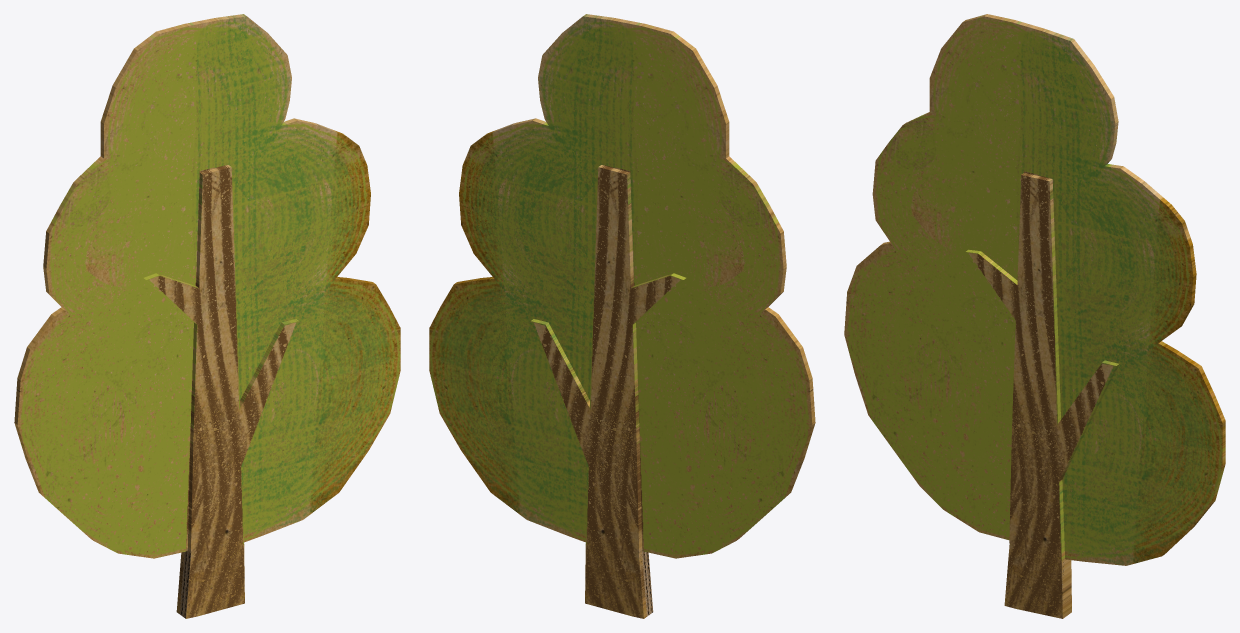
File: Tree_001.fbx
3 renders of one model, left to right at view 1: azimuth 30°, elevation 25°; view 2: azimuth 150°, elevation 25°; view 3: azimuth 330°, elevation 25°, orthographic.
Parts seen in each view (by area): view 1: Tree_01; view 2: Tree_01; view 3: Tree_01.
Part boxes in pixels (x1=…): Tree_01: x1=14, y1=14, x2=400, y2=618; Tree_01: x1=429, y1=14, x2=815, y2=618; Tree_01: x1=844, y1=14, x2=1225, y2=618.
Bounding box in the file's own units: 2.46 × 3.61 × 0.1034.
